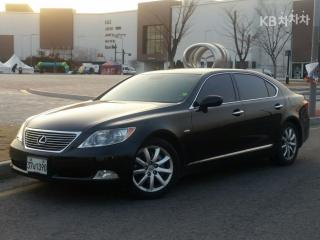0: (44, 164, 47, 172)
1: (36, 163, 39, 172)
3: (39, 163, 42, 172), (27, 161, 30, 169)
7: (30, 161, 33, 170)
9: (41, 164, 44, 172)
너: (33, 163, 36, 170)
